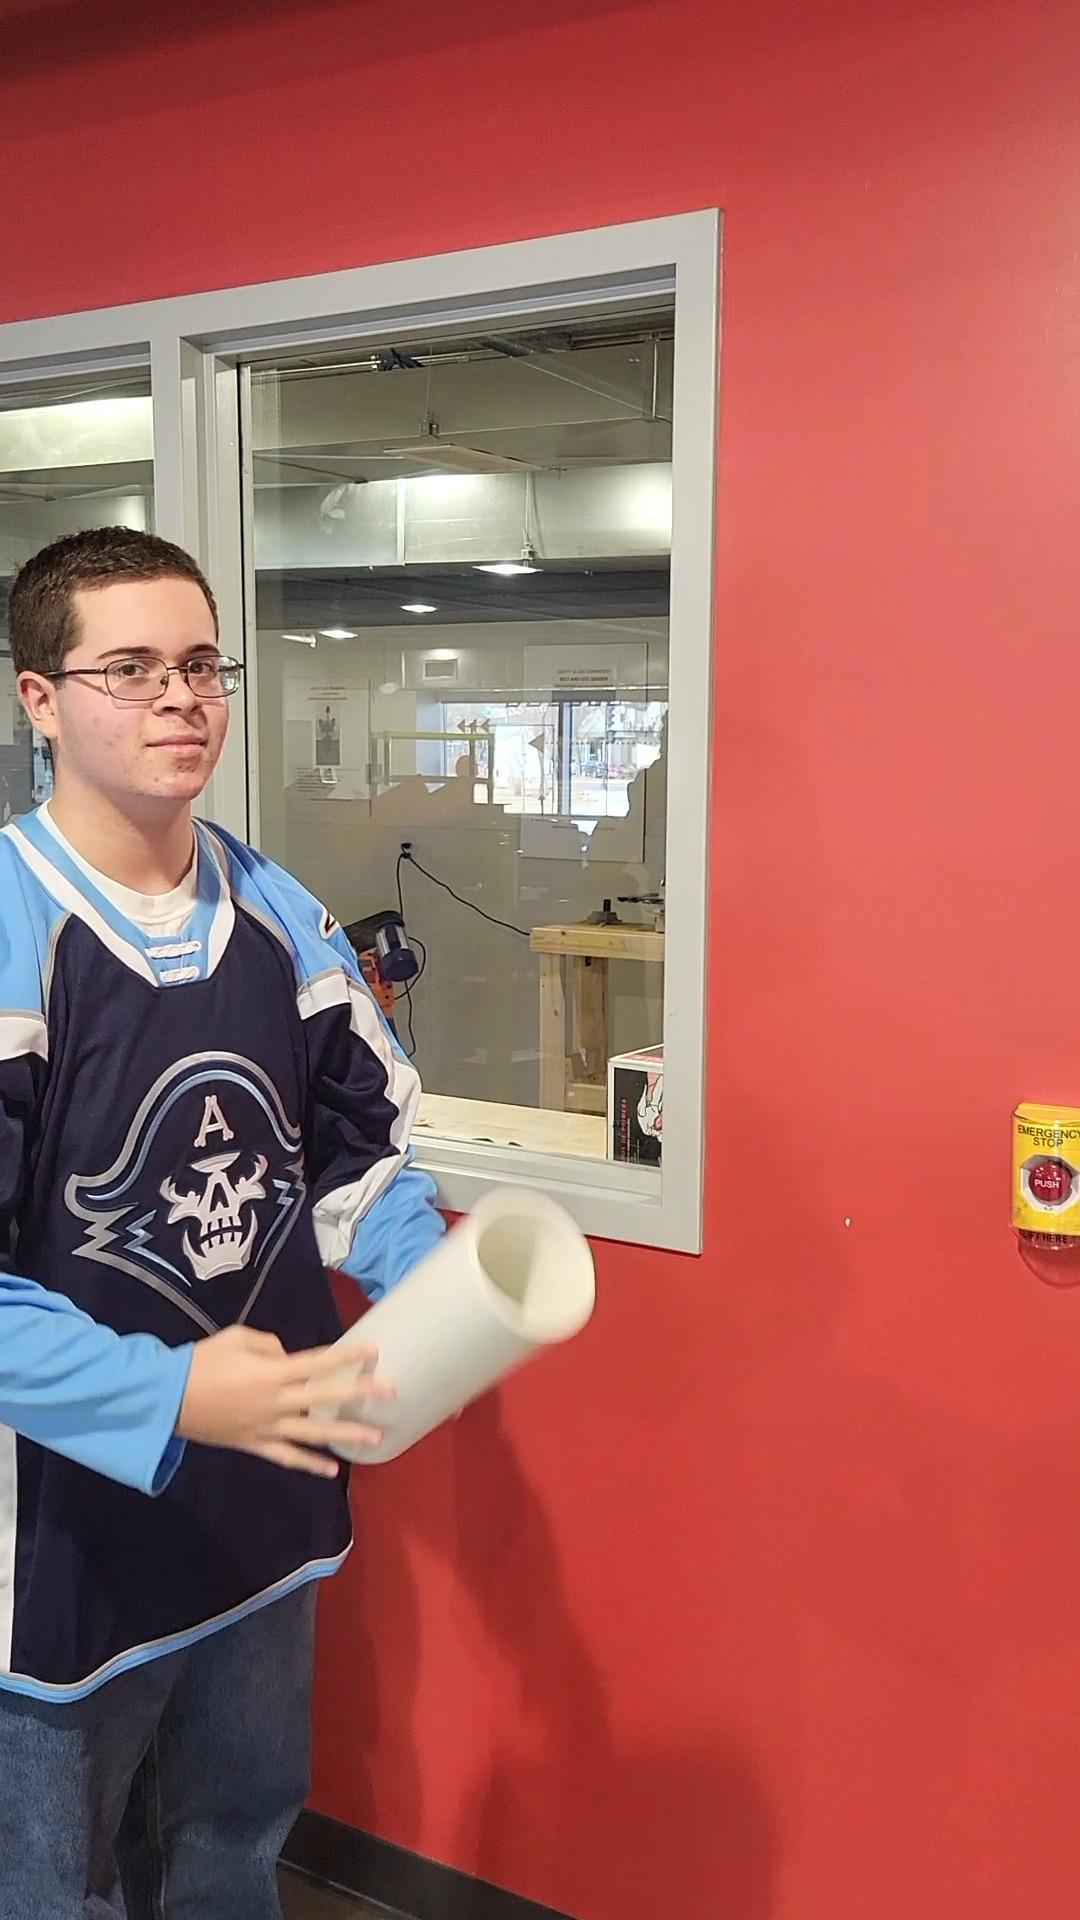coral: (316, 1188, 600, 1473)
